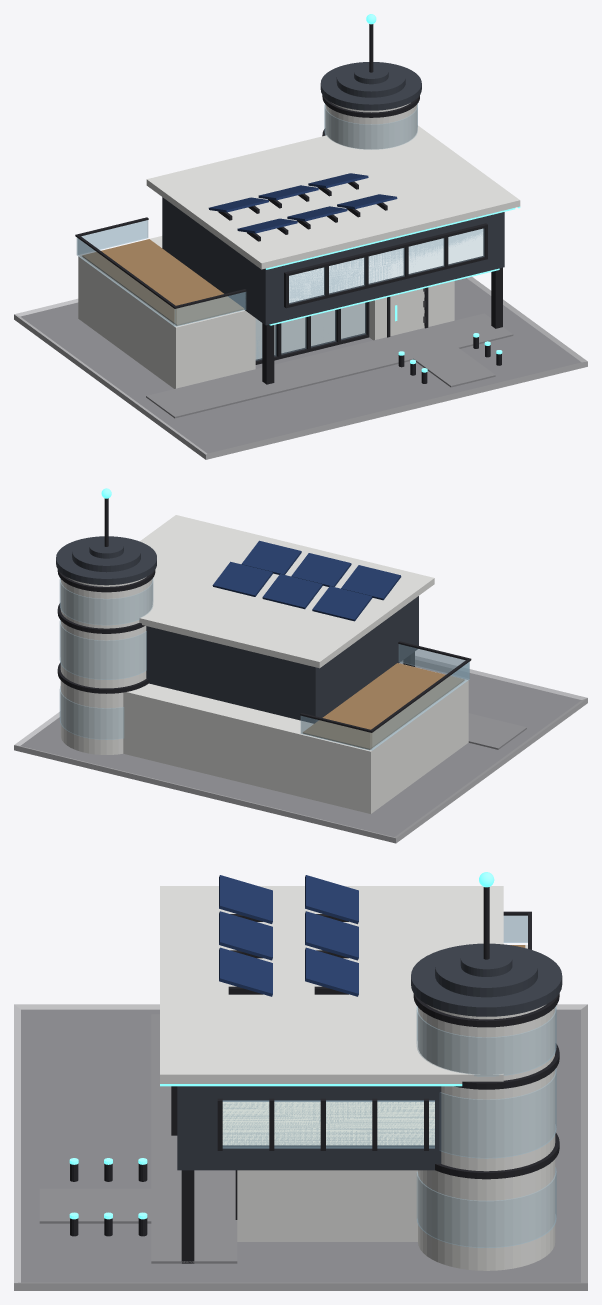
The model's file is house.glb.
3 renders of one model, top to bottom at view 1: azimuth 30°, elevation 25°; view 2: azimuth 150°, elevation 25°; view 3: azimuth 270°, elevation 25°, orthographic. The views are drawn at different scales.
Visible parts, largest first — view 1: House_Roof_Slab, Base_Futuristic_House, House_Upper_Floor, House_Terrace_Paving, House_Ground_Floor, House_Terrace_Deck, House_Ground_Floor_Front_L, House_Upper_Front_Glass, House_Upper_Front_Glow, House_Terrace_Rail_Glass, House_Tower_Crown, House_Ground_Floor_Front_R (+12 smaller); view 2: House_Ground_Floor, Base_Futuristic_House, House_Roof_Slab, House_Upper_Floor, House_Tower, House_Tower_Glass, House_Solar_Panels, House_Terrace_Deck, House_Terrace_Rail_Glass, House_Tower_Crown, House_Tower_Rings, House_Terrace_Paving (+2 smaller); view 3: Base_Futuristic_House, House_Roof_Slab, House_Tower, House_Tower_Glass, House_Upper_Floor, House_Solar_Panels, House_Ground_Floor, House_Terrace_Paving, House_Upper_Side_Glass, House_Tower_Crown, House_Upper_Side_Glow, House_Entry_Path (+8 smaller).
Part boxes in pixels (box(x1,y1,x2,y2)): House_Roof_Slab: box(146, 125, 520, 269); Base_Futuristic_House: box(14, 276, 587, 459); House_Upper_Floor: box(162, 197, 504, 325); House_Terrace_Paving: box(146, 313, 513, 418); House_Ground_Floor: box(78, 236, 364, 383); House_Terrace_Deck: box(82, 239, 243, 325); House_Ground_Floor_Front_L: box(167, 310, 255, 388); House_Upper_Front_Glass: box(289, 228, 484, 303); House_Upper_Front_Glow: box(289, 229, 483, 302); House_Terrace_Rail_Glass: box(76, 220, 246, 326); House_Tower_Crown: box(320, 62, 421, 110); House_Ground_Floor_Front_R: box(369, 281, 454, 340); House_Ground_Floor: box(123, 683, 459, 813); Base_Futuristic_House: box(14, 656, 587, 843); House_Roof_Slab: box(139, 515, 434, 668); House_Upper_Floor: box(146, 596, 418, 723); House_Tower: box(60, 577, 152, 754); House_Tower_Glass: box(59, 578, 153, 739); House_Solar_Panels: box(212, 540, 401, 621); House_Terrace_Deck: box(303, 663, 464, 749); House_Terrace_Rail_Glass: box(300, 644, 469, 750); House_Tower_Crown: box(56, 536, 156, 585); House_Tower_Rings: box(57, 569, 155, 693); House_Terrace_Paving: box(468, 713, 526, 749); Base_Futuristic_House: box(14, 1004, 587, 1290); House_Roof_Slab: box(160, 886, 503, 1083); House_Tower: box(418, 1004, 555, 1270); House_Tower_Glass: box(416, 1006, 556, 1247); House_Upper_Floor: box(177, 1086, 441, 1170); House_Solar_Panels: box(219, 875, 358, 996); House_Ground_Floor: box(263, 945, 527, 1241); House_Terrace_Paving: box(151, 1014, 237, 1263); House_Upper_Side_Glass: box(222, 1100, 434, 1148); House_Tower_Crown: box(411, 943, 562, 1016); House_Upper_Side_Glow: box(222, 1102, 434, 1145); House_Entry_Path: box(39, 1188, 151, 1223).
Size of the model in its own units: 76.8 by 48.2 by 66.8.
